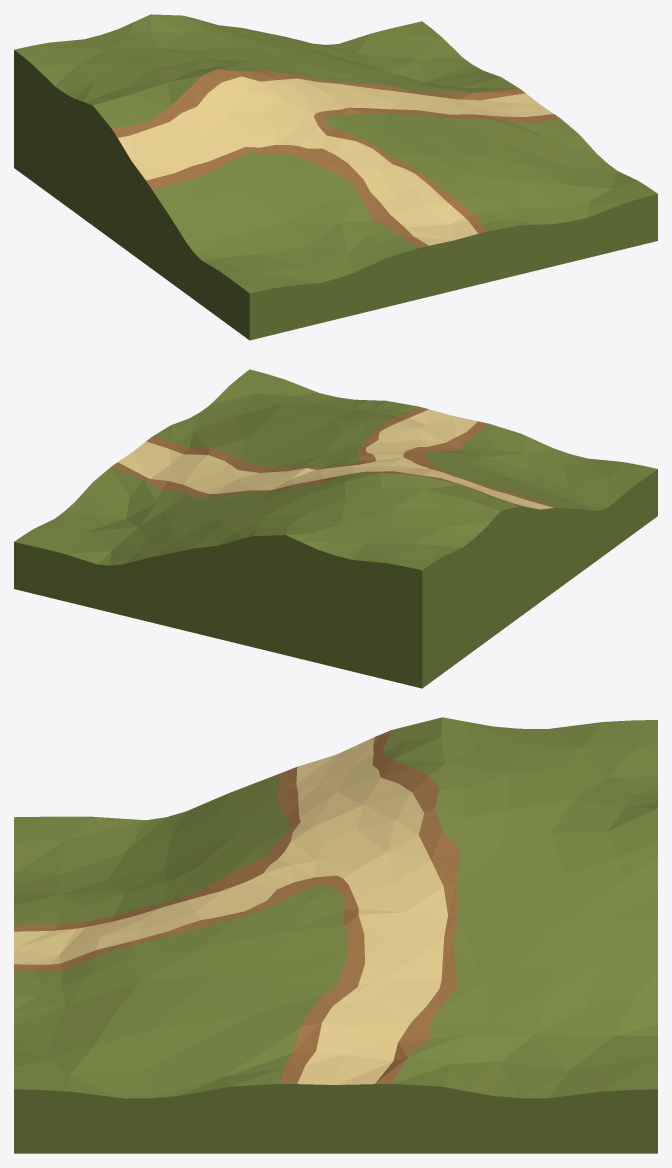
Rendered from Terrian_Road_Int_HillCorner-05.fbx.
3 renders of one model, top to bottom at view 1: azimuth 30°, elevation 25°; view 2: azimuth 150°, elevation 25°; view 3: azimuth 270°, elevation 25°, orthographic. The views are drawn at different scales.
Visible parts, largest first — view 1: Terrian_Road_Int_HillCorner-05; view 2: Terrian_Road_Int_HillCorner-05; view 3: Terrian_Road_Int_HillCorner-05.
Boxes of the visible parts, x1,y1,x2,y2 form: Terrian_Road_Int_HillCorner-05: [14, 14, 657, 340]; Terrian_Road_Int_HillCorner-05: [14, 369, 657, 688]; Terrian_Road_Int_HillCorner-05: [14, 717, 657, 1153].
Size of the model in its own units: 3600 by 1078 by 3600.
1 material, 1 textured.
